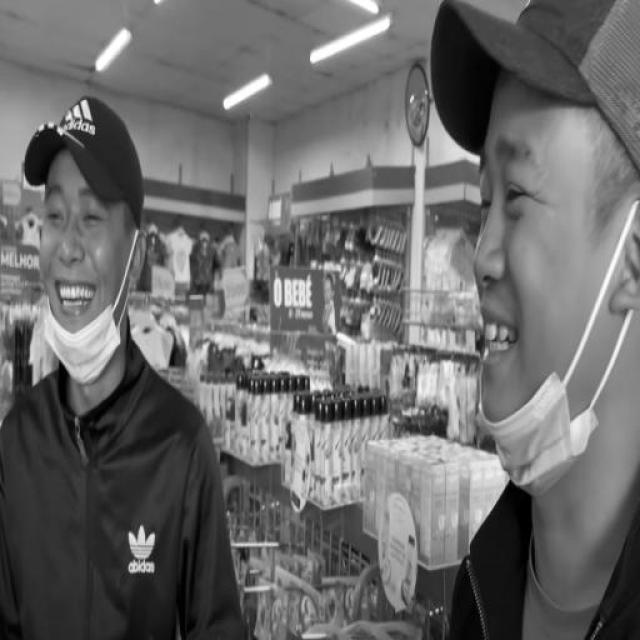hairnet: (476, 134, 600, 493), (39, 182, 122, 377)
